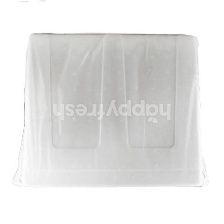foam_box: (10, 29, 212, 198)
